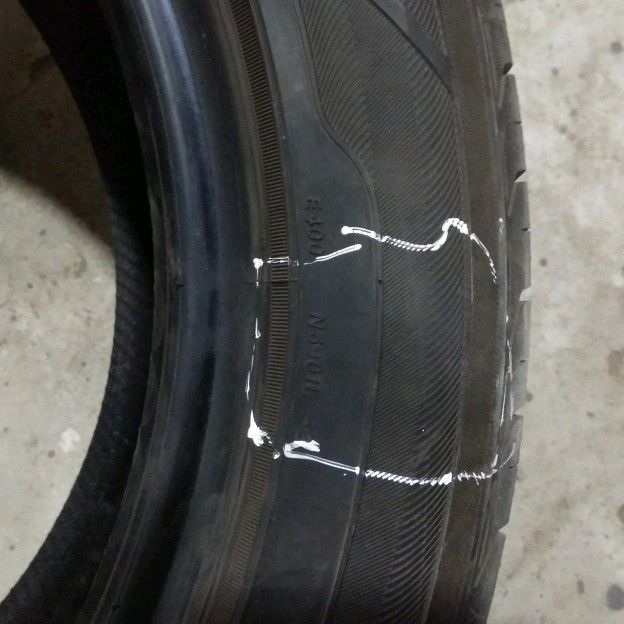CBU: (321, 268, 466, 422)
